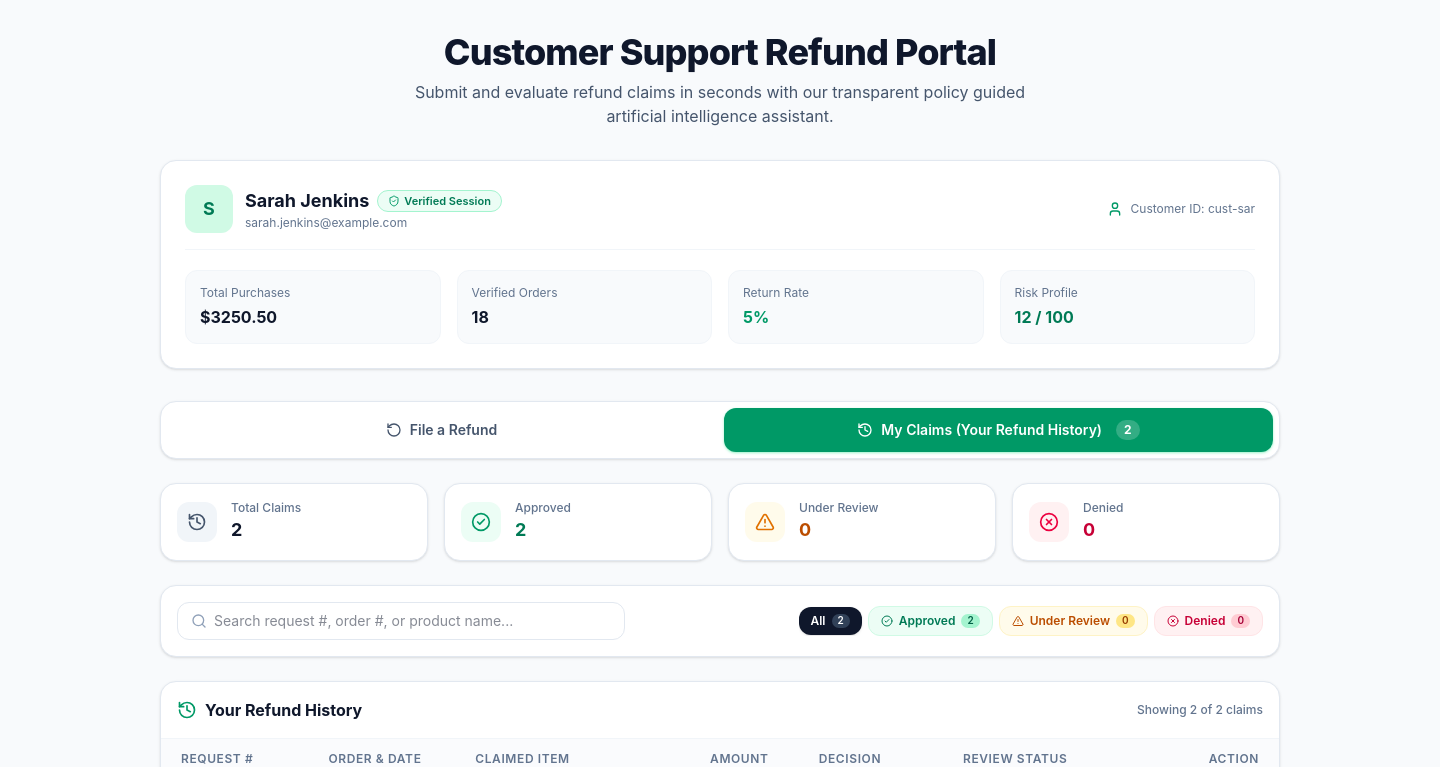
RefundRequestPage Component › switches between refund filing and claim history tabs (covers: AC-3)
expect the heading "Your Refund History" is shown: met, box top-left (205, 698), bottom-right (362, 722)
Click the button "File a Refund" at (442, 430), box top-left (167, 408), bottom-right (716, 452)
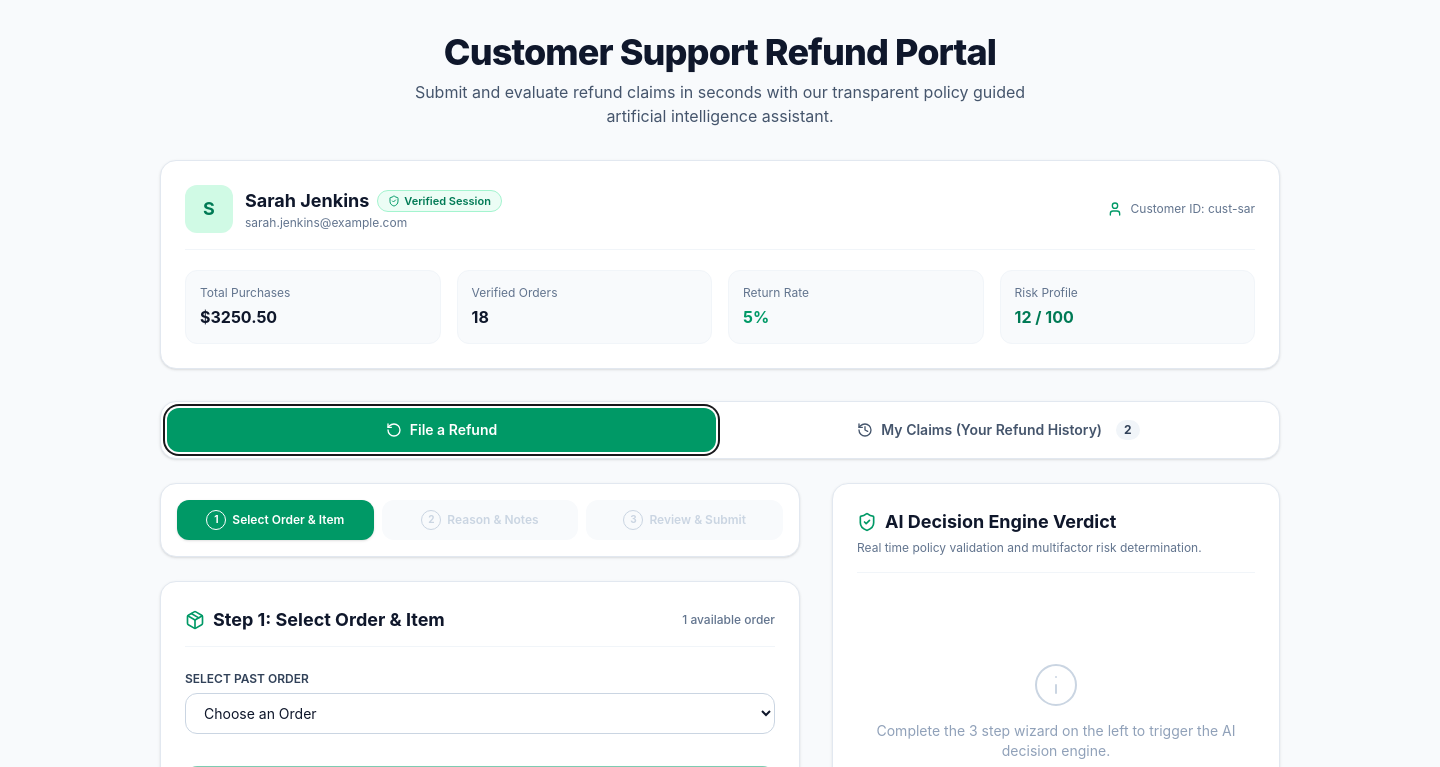
expect the text "Step 1: Select Order & Item" is shown: met, box top-left (213, 606), bottom-right (445, 634)
